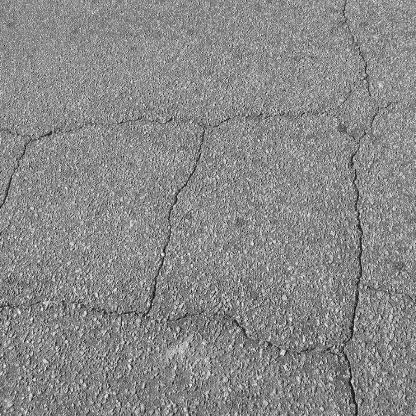Cracks: (0, 297, 360, 353), (143, 127, 209, 296), (345, 99, 397, 296), (0, 110, 324, 134), (333, 0, 376, 99), (0, 136, 36, 231), (336, 347, 368, 416)
